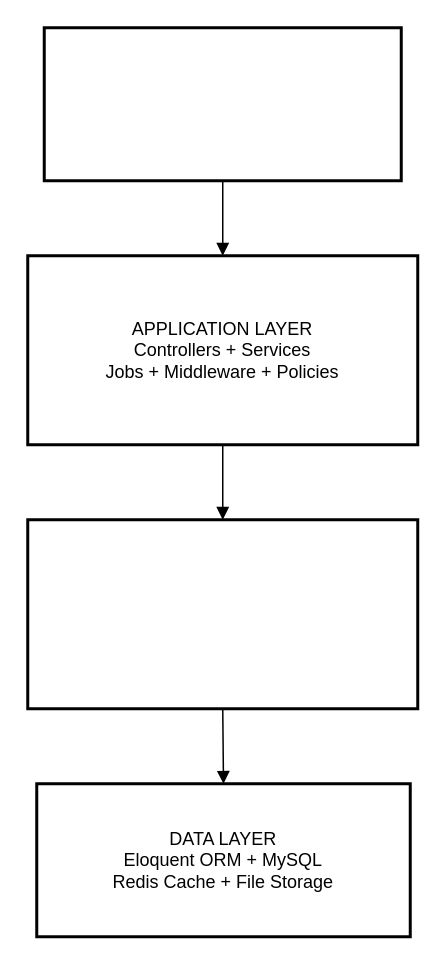
The diagram is 444 pixels wide and 963 high, and some of its shapes have lost their labels. The shapes that lost their labels are listed below. From the top down, each one's box as (x1, y1, x2, y2) in pixels, then its label:
(42, 26, 402, 182): PRESENTATION LAYER Blade + Livewire 3 + Volt Filament 4 + Tailwind 4
(26, 518, 418, 710): INTEGRATION LAYER RESTful API + WebSocket Reverb Email + Audit Trail
